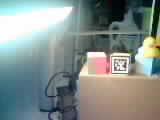duck: (132, 30, 155, 63)
